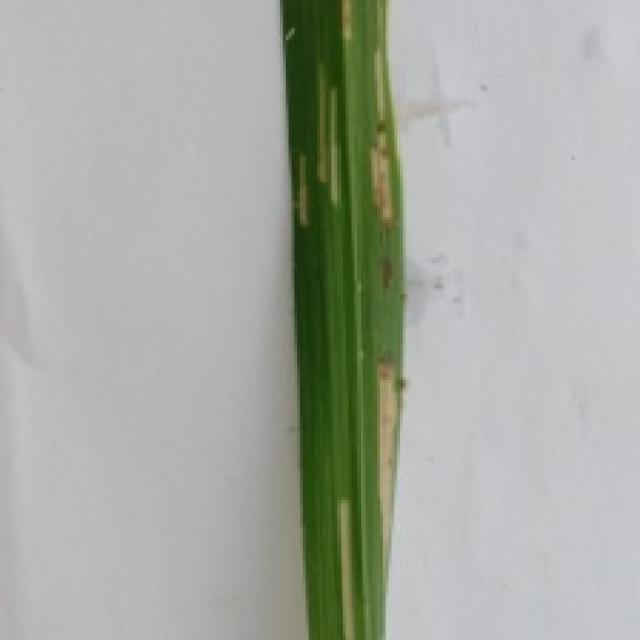Bacterial_Blight: (371, 352, 402, 556), (370, 36, 396, 237), (333, 494, 360, 640), (327, 78, 346, 215), (310, 60, 329, 191), (287, 154, 314, 236), (337, 0, 360, 57)
Brown_Spot: (377, 252, 403, 291)
